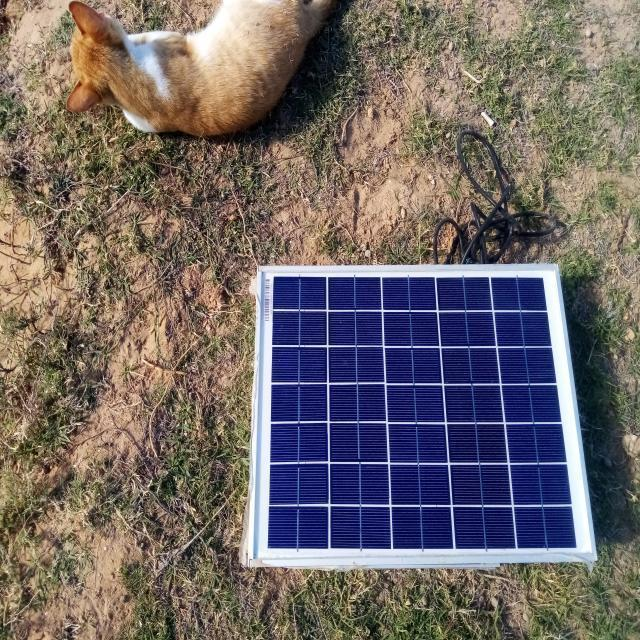Normal Solar Panel: (249, 264, 596, 565)
